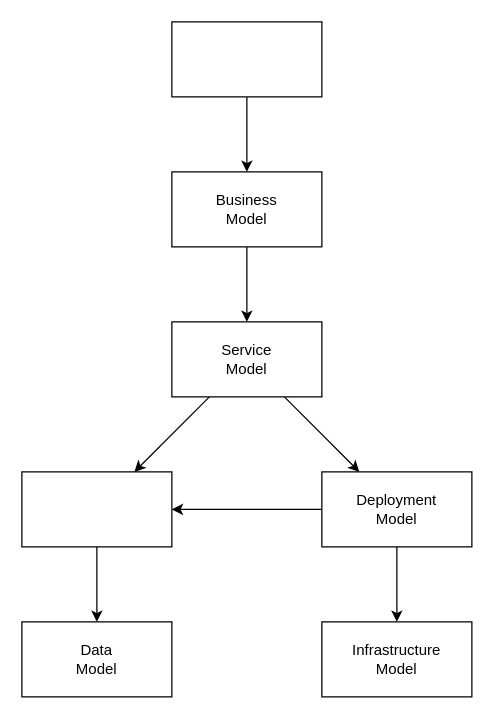
Some shapes in this 494 by 719 pixel diagram are drawn without their labels. The box of each missing label's shape, as (x1, y1, x2, y2) in pixels:
Application Model: (21, 471, 172, 547)
Social Model: (171, 21, 322, 97)
